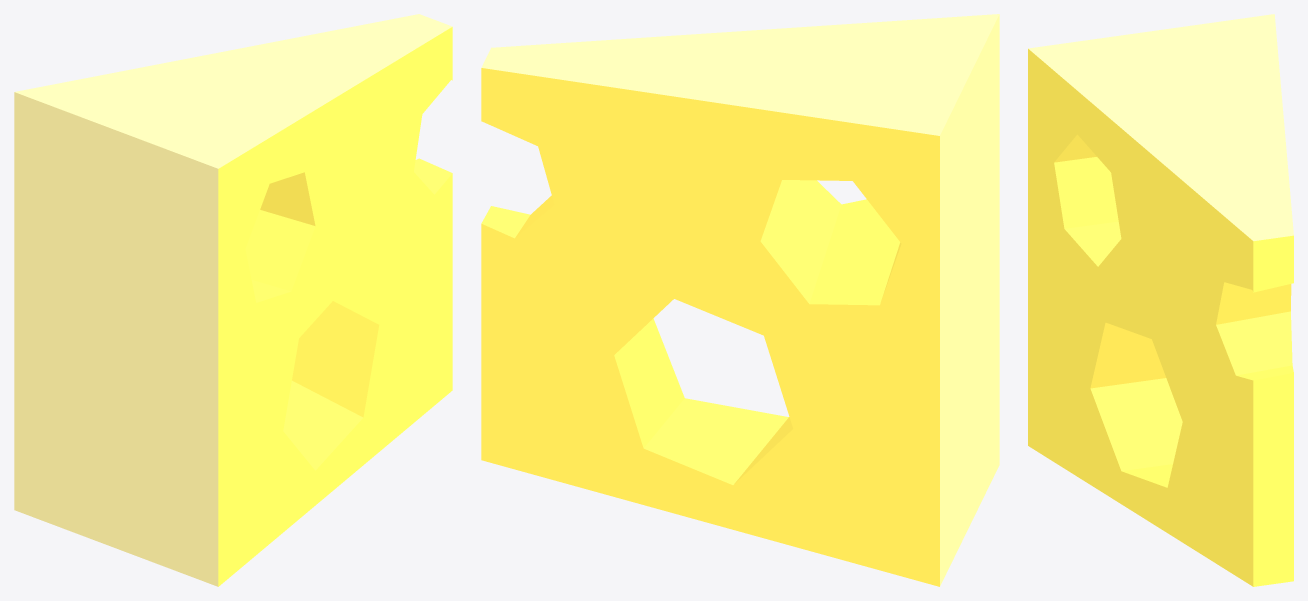
The model's file is cheese blue.fbx.
3 renders of one model, left to right at view 1: azimuth 30°, elevation 25°; view 2: azimuth 150°, elevation 25°; view 3: azimuth 270°, elevation 25°, orthographic. The views are drawn at different scales.
Visible parts, largest first — view 1: Cube.020; view 2: Cube.020; view 3: Cube.020.
Boxes of the visible parts, x1,y1,x2,y2 form: Cube.020: (14, 14, 452, 586); Cube.020: (481, 14, 999, 586); Cube.020: (1028, 14, 1293, 586).
Size of the model in its own units: 93.74 by 87.66 by 53.18.
